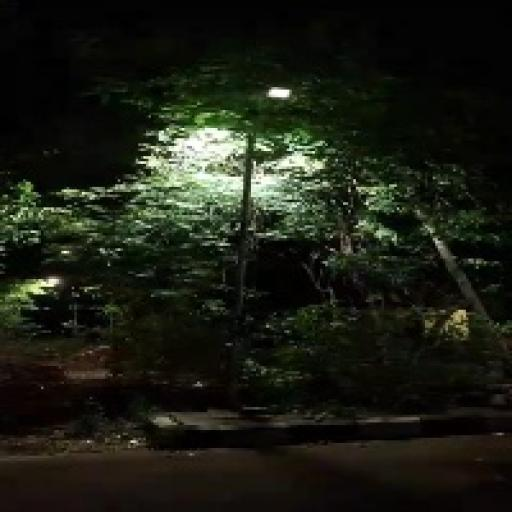Working: (260, 84, 296, 106)
